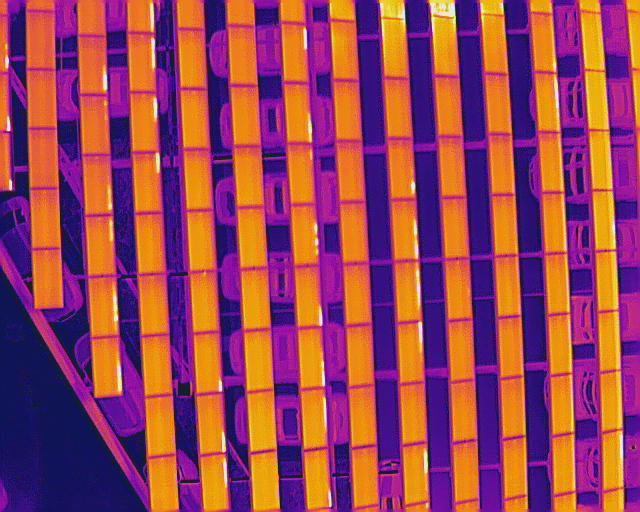Cell: (194, 332, 222, 394)
Cell-Multi: (80, 93, 110, 155), (289, 204, 318, 266)
No-Anomaly: (339, 200, 370, 263), (237, 206, 268, 269), (27, 128, 58, 190), (29, 188, 60, 249), (228, 24, 258, 87), (234, 145, 264, 208), (186, 209, 216, 272), (230, 83, 259, 147), (335, 140, 364, 204), (240, 268, 269, 332), (244, 328, 273, 392), (142, 334, 171, 398), (333, 80, 362, 143), (181, 87, 210, 150), (343, 263, 372, 326), (286, 142, 314, 207), (32, 249, 62, 309), (330, 20, 359, 82), (250, 451, 279, 512), (177, 27, 206, 88), (190, 272, 219, 333), (247, 391, 276, 452), (184, 148, 212, 211), (530, 12, 558, 74), (584, 67, 611, 131), (488, 132, 515, 196), (26, 10, 56, 67), (434, 76, 462, 137), (27, 68, 55, 129), (483, 72, 510, 135), (384, 76, 411, 139), (452, 440, 479, 503), (537, 132, 564, 195), (490, 194, 517, 257), (449, 381, 476, 444), (400, 381, 427, 444), (349, 386, 376, 449), (136, 214, 164, 274), (141, 274, 168, 336), (497, 316, 524, 378), (346, 326, 373, 388), (146, 396, 173, 457), (432, 16, 459, 77), (438, 136, 465, 197), (442, 196, 469, 257), (579, 10, 606, 71), (352, 446, 378, 509), (545, 250, 570, 315), (481, 13, 507, 75), (587, 130, 614, 189), (382, 20, 408, 81), (591, 189, 617, 250), (501, 437, 526, 500), (495, 254, 520, 317), (446, 259, 471, 322), (499, 377, 524, 439), (149, 455, 176, 512), (595, 251, 620, 312), (542, 192, 567, 252), (548, 314, 572, 375), (450, 320, 474, 381), (550, 375, 574, 436), (600, 370, 623, 431), (552, 434, 575, 494), (598, 313, 621, 373)
Unclassified: (84, 214, 116, 277), (131, 153, 162, 214), (77, 33, 107, 96), (395, 320, 424, 385), (387, 135, 415, 202), (127, 31, 157, 92), (283, 82, 312, 145), (293, 266, 322, 328), (130, 91, 159, 152), (82, 154, 111, 215), (196, 393, 225, 454), (391, 198, 419, 260), (89, 275, 117, 337), (298, 328, 326, 390), (93, 336, 122, 395), (301, 388, 329, 449), (533, 71, 560, 134), (401, 444, 429, 504), (281, 22, 308, 84), (394, 260, 421, 322), (304, 450, 332, 509), (200, 454, 228, 512), (602, 432, 625, 491)
